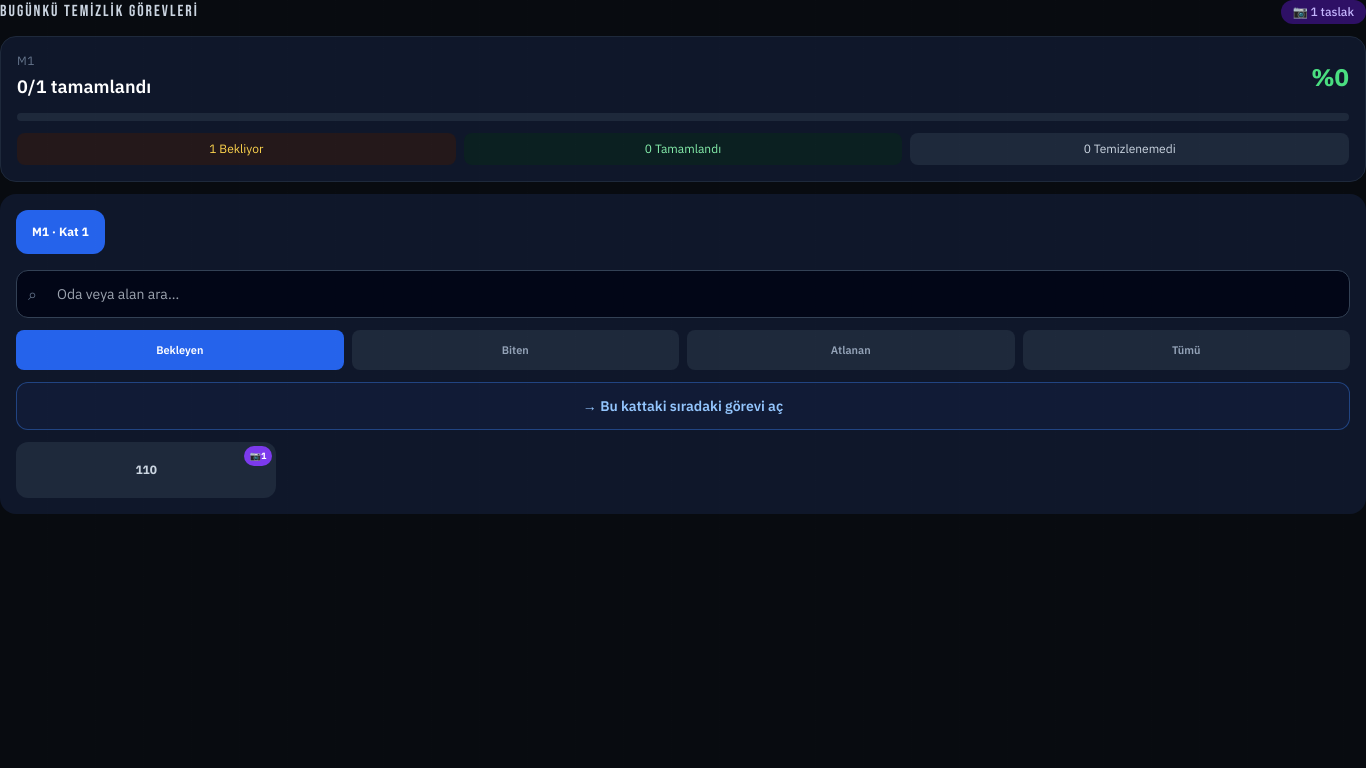
it: AVS sekme parçaları smoke › TasksTab çevrimdışıyken taslağı korur ve gönderimi bekletir
Click the button "110 📷1". click: (146, 470)
box: [16,442,276,498]
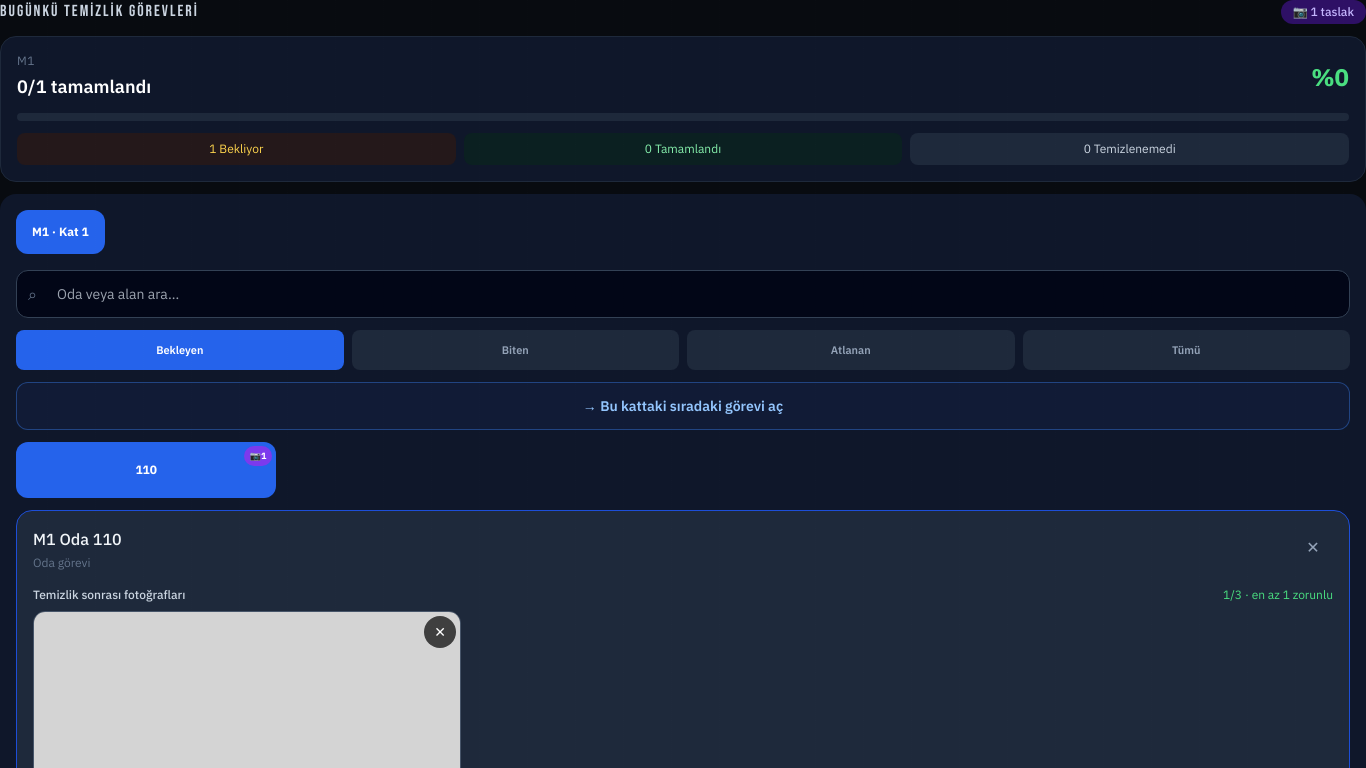
Now the text "1/3 · en az 1 zorunlu" is shown, box [1223,587,1333,603]
